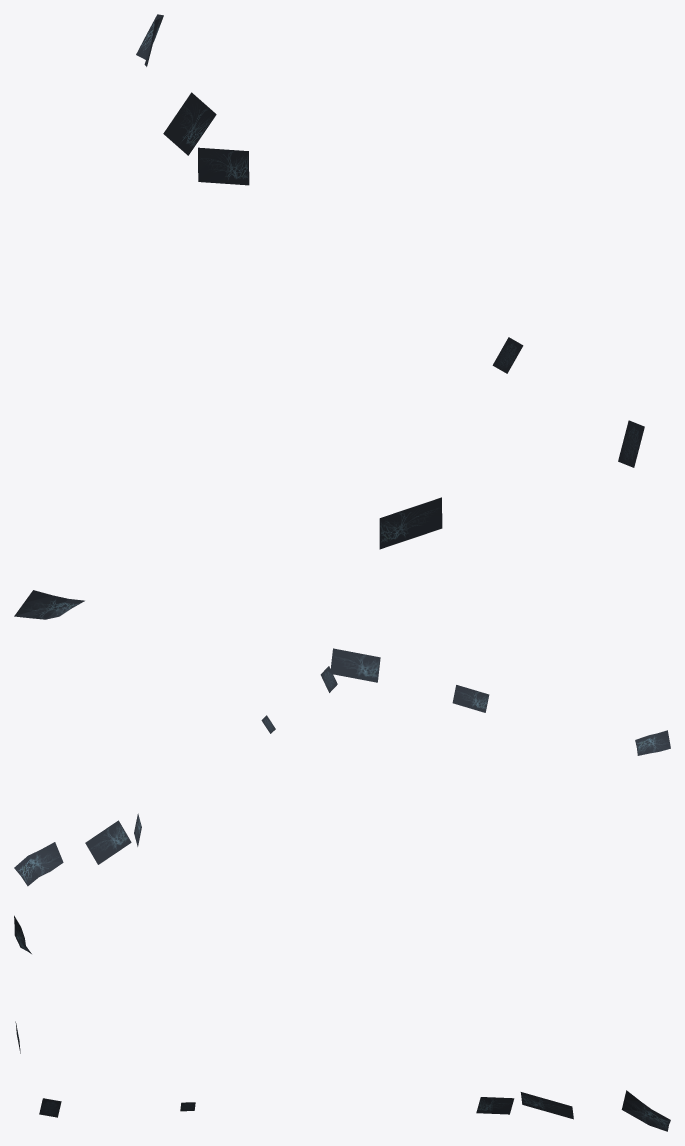
Rendered from Area_10_1.fbx.
3 renders of one model, top to bottom at view 1: azimuth 30°, elevation 25°; view 2: azimuth 150°, elevation 25°; view 3: azimuth 270°, elevation 25°, orthographic. The views are drawn at different scales.
Parts seen in each view (by area): view 1: Area_10_1; view 2: Area_10_1; view 3: Area_10_1.
Part boxes in pixels (left/top/right/bottom): Area_10_1: left=14, top=14, right=644, bottom=619; Area_10_1: left=14, top=648, right=670, bottom=886; Area_10_1: left=14, top=915, right=670, bottom=1131.
Size of the model in its own units: 6911 by 666 by 9676.
1 material, 1 textured.
